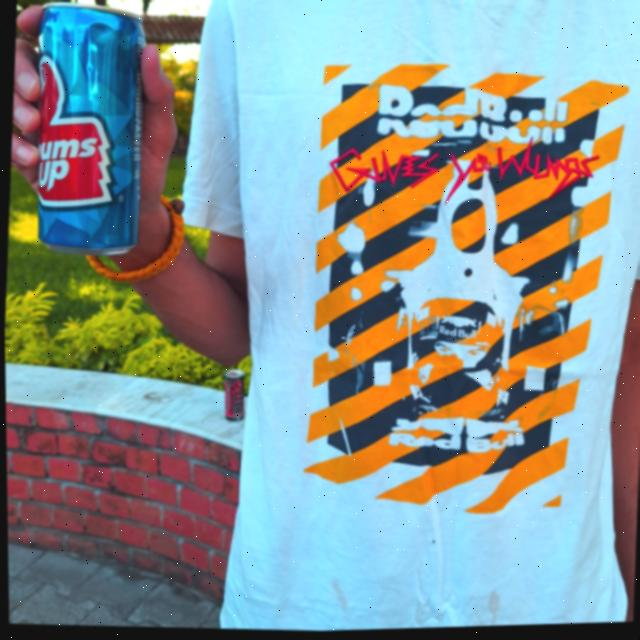Thums Up: (13, 0, 152, 260)
